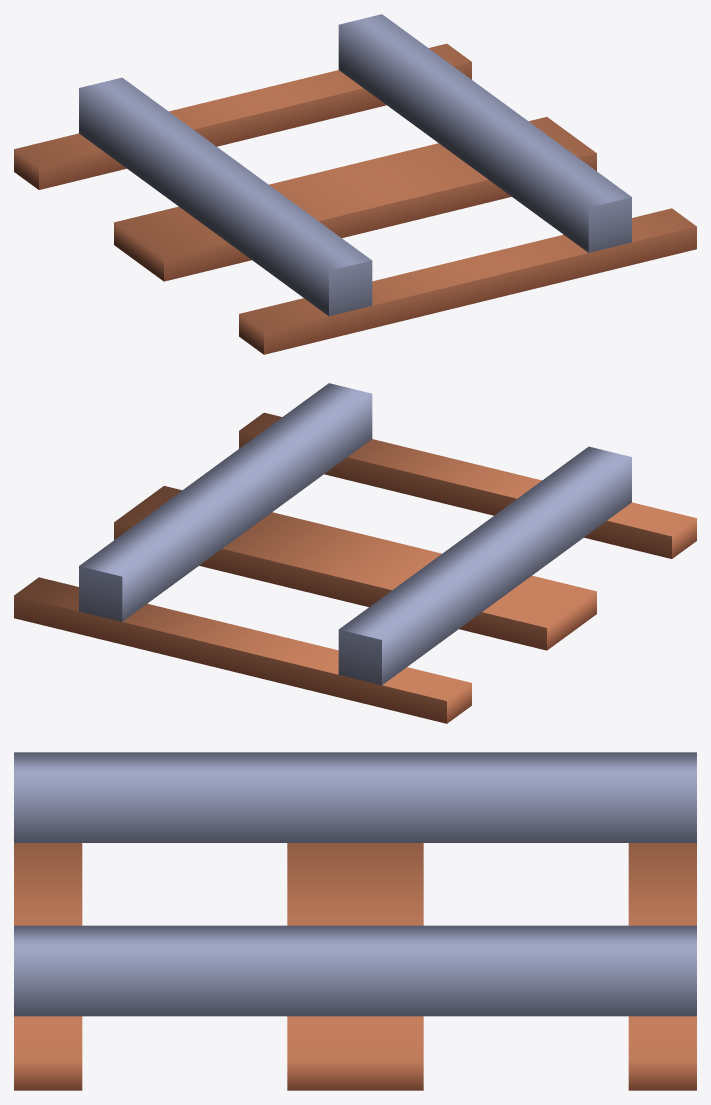
File: track.glb
3 renders of one model, top to bottom at view 1: azimuth 30°, elevation 25°; view 2: azimuth 150°, elevation 25°; view 3: azimuth 270°, elevation 25°, orthographic. The views are drawn at different scales.
Parts seen in each view (by area): view 1: track; view 2: track; view 3: track.
Part boxes in pixels (x1,y1,x2,y2): track: (14,14,696,354); track: (14,383,696,723); track: (14,752,696,1090).
Size of the model in its own units: 1 by 0.15 by 1.
